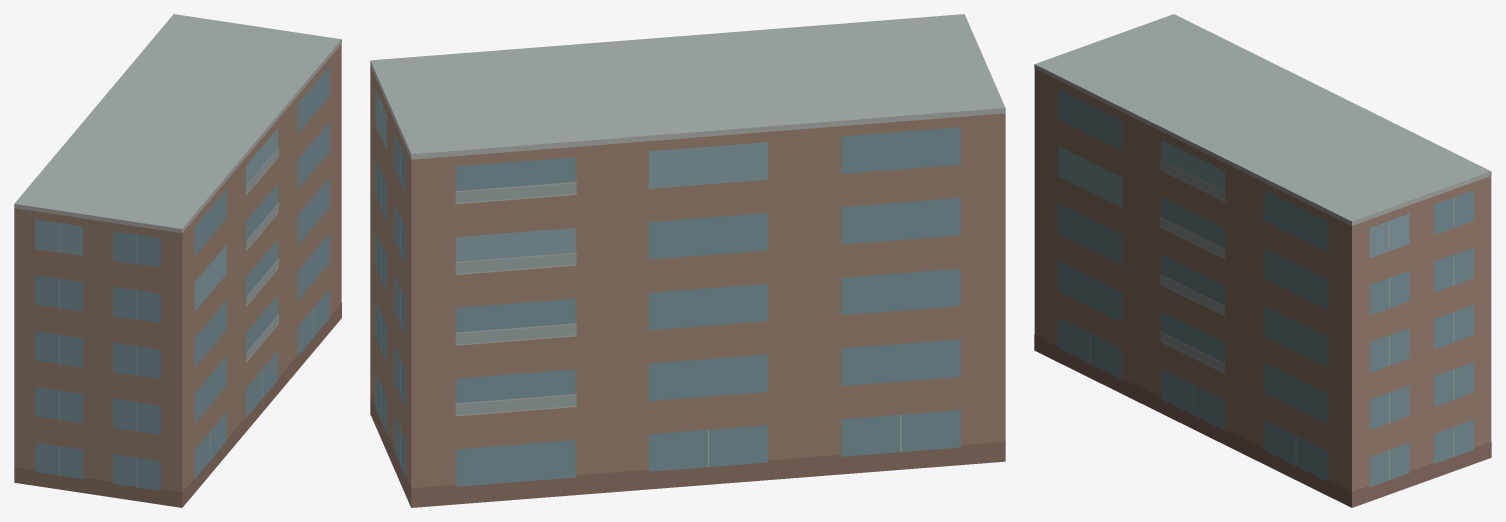
Rendered from survey-upis-32954224.glb.
The picture shows the model from 3 angles, left to right: view 1: azimuth 30°, elevation 25°; view 2: azimuth 150°, elevation 25°; view 3: azimuth 270°, elevation 25°; orthographic projection. The views are drawn at different scales.
Visible parts, largest first — view 1: survey-upis-32954224.tmp; view 2: survey-upis-32954224.tmp; view 3: survey-upis-32954224.tmp.
Boxes of the visible parts, box(x1,y1,x2,y2) form: survey-upis-32954224.tmp: box(14, 14, 341, 507); survey-upis-32954224.tmp: box(370, 14, 1005, 507); survey-upis-32954224.tmp: box(1034, 14, 1491, 507).
Bounding box in the file's own units: 24.88 × 16 × 23.15.
